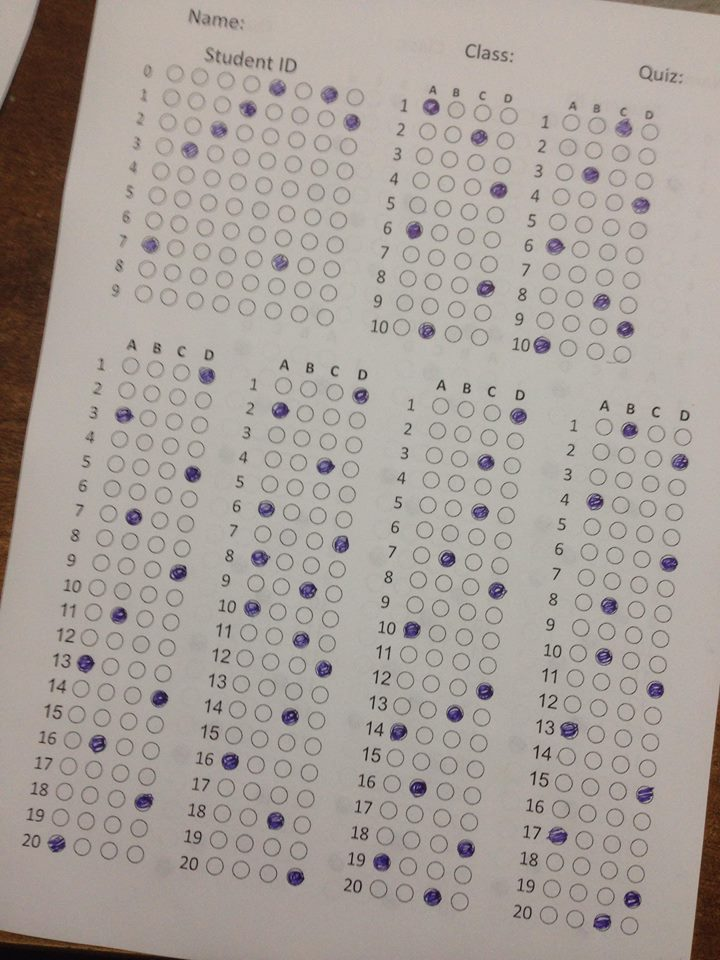not-c: (618, 913, 641, 938), (448, 889, 470, 914), (564, 906, 586, 931), (567, 881, 590, 904), (471, 706, 495, 728), (585, 722, 607, 746), (394, 882, 416, 905), (601, 832, 623, 855), (576, 802, 599, 824), (441, 728, 463, 750), (411, 750, 433, 772), (541, 878, 563, 900), (599, 859, 621, 881), (550, 798, 572, 820), (583, 750, 605, 772), (642, 705, 664, 727), (570, 616, 592, 638), (628, 574, 650, 596), (264, 100, 285, 123), (404, 803, 425, 826), (596, 884, 617, 907), (631, 811, 654, 832), (580, 775, 601, 798), (639, 732, 662, 753), (613, 727, 634, 750), (568, 641, 589, 664), (601, 570, 624, 591), (220, 220, 242, 241), (483, 606, 505, 627), (424, 646, 445, 668), (477, 655, 499, 676), (462, 785, 483, 807), (398, 855, 419, 877), (453, 863, 474, 885), (539, 904, 560, 926), (574, 829, 595, 851), (605, 807, 627, 828), (610, 753, 631, 775), (566, 667, 587, 689), (621, 650, 642, 672), (648, 654, 669, 676), (626, 599, 647, 621), (491, 530, 514, 550), (386, 746, 406, 769), (382, 772, 402, 795), (608, 779, 628, 802), (638, 756, 658, 779), (272, 758, 293, 779), (421, 673, 442, 694), (418, 699, 439, 720), (468, 732, 489, 753), (553, 772, 574, 793), (624, 625, 645, 646), (652, 604, 673, 625), (547, 212, 568, 233), (624, 245, 645, 266), (235, 121, 255, 143), (335, 160, 355, 182), (76, 810, 96, 832), (417, 121, 439, 141), (257, 677, 277, 699), (250, 728, 270, 750), (299, 762, 319, 784), (235, 832, 255, 854), (430, 395, 450, 417), (454, 626, 474, 648), (451, 652, 473, 672), (435, 780, 455, 802), (429, 833, 449, 855), (572, 855, 592, 877), (673, 426, 693, 448), (316, 109, 337, 129), (325, 234, 345, 255), (133, 284, 154, 304), (59, 757, 79, 778), (105, 789, 126, 809), (72, 835, 92, 856), (308, 505, 328, 526), (335, 508, 355, 529), (317, 634, 338, 654), (208, 828, 228, 849), (427, 623, 448, 643), (481, 630, 502, 650), (448, 677, 469, 697), (432, 807, 452, 828), (426, 860, 446, 881), (368, 878, 388, 899), (626, 863, 646, 884), (616, 701, 636, 722), (651, 628, 671, 649), (576, 567, 596, 588), (635, 524, 655, 545), (594, 416, 614, 437), (646, 423, 666, 444), (605, 192, 625, 213), (542, 261, 562, 282), (567, 264, 588, 284), (538, 286, 559, 306), (612, 343, 632, 364), (188, 90, 207, 112), (328, 211, 350, 230), (247, 224, 266, 246), (123, 685, 142, 707), (493, 154, 512, 176), (434, 197, 453, 219), (312, 480, 331, 502), (557, 746, 576, 768), (597, 620, 616, 642), (656, 579, 678, 598), (276, 204, 296, 224), (195, 218, 215, 238), (160, 437, 180, 457), (153, 487, 173, 507), (94, 528, 114, 548), (80, 785, 100, 805), (483, 230, 503, 250), (454, 251, 474, 271), (470, 328, 490, 348), (285, 477, 305, 497), (238, 807, 258, 827), (292, 815, 312, 835), (396, 670, 416, 690), (392, 696, 412, 716), (439, 755, 459, 775), (589, 698, 609, 718), (592, 672, 612, 692), (574, 592, 594, 612), (611, 495, 631, 515), (591, 441, 611, 461), (558, 138, 578, 158), (637, 146, 657, 166), (634, 171, 654, 191), (571, 239, 591, 259), (595, 267, 615, 287), (586, 341, 606, 361), (261, 127, 282, 146), (176, 165, 195, 186), (227, 172, 248, 191), (197, 193, 218, 212), (144, 210, 165, 229), (165, 238, 186, 257), (319, 283, 338, 304), (167, 387, 186, 408), (173, 538, 192, 559), (113, 580, 132, 601), (140, 742, 161, 761), (496, 131, 517, 150), (299, 379, 320, 398), (347, 409, 368, 428), (292, 428, 311, 449), (338, 483, 357, 504), (301, 556, 322, 575), (324, 584, 343, 605), (268, 601, 287, 622), (240, 622, 259, 643), (269, 785, 288, 806), (424, 445, 445, 464), (400, 643, 419, 664), (466, 758, 485, 779), (460, 811, 479, 832), (376, 825, 395, 846), (402, 829, 421, 850), (546, 851, 565, 872), (563, 693, 582, 714), (665, 502, 684, 523), (629, 220, 648, 241), (217, 70, 235, 92), (117, 380, 135, 402), (54, 781, 72, 803), (295, 80, 314, 100), (345, 88, 365, 107), (290, 105, 309, 125), (158, 111, 178, 130), (183, 115, 202, 135), (151, 161, 170, 181), (306, 183, 325, 203), (332, 187, 352, 206), (147, 186, 167, 205), (217, 246, 237, 265), (322, 259, 342, 278), (136, 259, 156, 278), (162, 262, 182, 281), (267, 277, 287, 296), (237, 298, 256, 318), (316, 307, 336, 326), (121, 355, 140, 375), (191, 415, 210, 435), (143, 560, 162, 580), (165, 589, 184, 609), (161, 613, 181, 632), (80, 627, 99, 647), (158, 639, 177, 659), (62, 730, 82, 749), (115, 738, 135, 757), (84, 759, 103, 779), (111, 763, 130, 783), (139, 585, 159, 604), (500, 105, 519, 125), (461, 202, 481, 221), (402, 244, 421, 264), (450, 276, 470, 295), (447, 299, 466, 319), (391, 319, 411, 338), (444, 324, 463, 344), (325, 382, 344, 402), (280, 527, 299, 547), (310, 686, 330, 705), (229, 700, 248, 720), (277, 733, 296, 753), (215, 779, 235, 798), (257, 864, 277, 883), (453, 425, 473, 444), (447, 473, 467, 492), (415, 520, 434, 540), (379, 801, 398, 821), (619, 676, 638, 696), (580, 541, 599, 561), (644, 448, 663, 468), (611, 143, 630, 163), (608, 168, 627, 188), (574, 215, 594, 234), (536, 310, 555, 330), (589, 317, 608, 337), (190, 65, 208, 86), (168, 214, 189, 232), (170, 363, 191, 381), (184, 440, 205, 458), (180, 489, 198, 510), (153, 664, 174, 682), (97, 682, 115, 703), (118, 712, 139, 730), (101, 839, 119, 860), (127, 843, 145, 864), (428, 247, 446, 268), (472, 303, 493, 321), (319, 432, 340, 450), (344, 437, 365, 455), (304, 532, 325, 550), (271, 577, 292, 595), (263, 836, 281, 857), (290, 840, 308, 861), (505, 431, 526, 449), (433, 575, 454, 593), (165, 64, 184, 83), (313, 134, 332, 153), (283, 154, 302, 173), (252, 200, 271, 219), (293, 280, 312, 299), (160, 288, 179, 307), (290, 304, 309, 323), (195, 390, 214, 409), (135, 433, 154, 452), (175, 515, 194, 534), (146, 535, 165, 554), (117, 556, 136, 575), (132, 635, 151, 654), (101, 657, 120, 676), (93, 709, 112, 728), (52, 807, 71, 826), (412, 172, 431, 191), (409, 197, 428, 216), (421, 296, 440, 315), (283, 503, 302, 522), (295, 789, 314, 808), (212, 804, 231, 823), (231, 860, 250, 879), (457, 400, 476, 419), (427, 421, 446, 440), (422, 471, 441, 490), (501, 482, 520, 501), (415, 726, 434, 745), (629, 839, 648, 858), (606, 545, 625, 564), (609, 521, 628, 540), (614, 471, 633, 490), (641, 475, 660, 494), (617, 446, 636, 465), (584, 141, 603, 160), (598, 243, 617, 262), (622, 271, 641, 290), (212, 95, 232, 113), (287, 130, 307, 148), (155, 137, 175, 155), (257, 152, 277, 170), (202, 170, 222, 188), (255, 175, 275, 193), (301, 233, 321, 251), (244, 251, 264, 269), (240, 274, 260, 292), (186, 291, 204, 311), (211, 294, 229, 314), (109, 429, 129, 447), (134, 610, 154, 628), (105, 630, 123, 650), (71, 680, 89, 700), (139, 767, 157, 787), (467, 152, 485, 172), (464, 177, 482, 197), (267, 425, 287, 443), (290, 453, 308, 473), (254, 524, 272, 544), (275, 552, 295, 570), (285, 682, 303, 702), (255, 703, 273, 723), (305, 736, 323, 756), (204, 857, 224, 875), (472, 477, 492, 495), (468, 527, 486, 547), (463, 553, 483, 571), (491, 557, 511, 575), (661, 529, 681, 547), (639, 499, 657, 519), (601, 219, 621, 237), (339, 138, 360, 155), (310, 159, 331, 176), (100, 503, 117, 524), (261, 474, 278, 495), (281, 179, 299, 198), (225, 197, 244, 215), (191, 242, 210, 260), (189, 266, 208, 284), (145, 361, 164, 379), (140, 409, 158, 428), (165, 412, 184, 430), (103, 479, 121, 498), (93, 555, 111, 574), (128, 660, 146, 679), (68, 705, 86, 724), (146, 714, 164, 733), (103, 815, 122, 833), (416, 146, 434, 165), (480, 255, 499, 273), (296, 404, 315, 422), (235, 648, 254, 666), (232, 675, 250, 694), (503, 456, 521, 475), (496, 505, 515, 523), (441, 523, 459, 542), (412, 547, 431, 565), (462, 578, 480, 597), (633, 550, 652, 568), (583, 517, 601, 536), (667, 479, 686, 497), (588, 116, 606, 135), (640, 123, 659, 141), (578, 191, 597, 209), (565, 289, 583, 308), (619, 296, 638, 314), (562, 314, 580, 333), (558, 339, 576, 358), (173, 191, 193, 208), (151, 511, 168, 531), (439, 151, 459, 168), (432, 223, 449, 243), (330, 559, 347, 579), (243, 782, 260, 802), (479, 429, 499, 446), (451, 449, 468, 469), (206, 145, 224, 163), (215, 270, 233, 288), (159, 461, 177, 479), (444, 126, 462, 144), (396, 293, 414, 311), (266, 627, 284, 645), (307, 712, 325, 730), (225, 727, 243, 745), (248, 757, 266, 775), (483, 404, 501, 422), (445, 499, 463, 517), (406, 596, 424, 614), (458, 603, 476, 621), (589, 468, 607, 486), (562, 114, 580, 132), (555, 163, 573, 181), (552, 188, 570, 206), (233, 148, 252, 165), (265, 301, 282, 320), (107, 454, 124, 473), (132, 459, 149, 478), (128, 484, 147, 501), (87, 580, 106, 597), (85, 603, 102, 622), (130, 820, 149, 837), (474, 104, 491, 123), (438, 174, 455, 193), (399, 270, 418, 287), (274, 378, 293, 395), (265, 449, 282, 468), (341, 461, 360, 478), (322, 611, 341, 628), (432, 600, 451, 617), (162, 89, 182, 105), (303, 209, 323, 225), (244, 74, 261, 92), (275, 229, 292, 247), (122, 532, 139, 550), (458, 227, 475, 245), (425, 274, 443, 291), (323, 408, 340, 426), (262, 653, 279, 671), (289, 656, 306, 674), (420, 496, 437, 514), (487, 206, 504, 223), (296, 607, 313, 624), (298, 257, 316, 273), (144, 385, 160, 403), (448, 101, 464, 119), (409, 572, 427, 588), (248, 575, 265, 591)
taken-c: (135, 234, 160, 257), (195, 364, 218, 386), (634, 782, 656, 804), (268, 254, 291, 275), (148, 687, 169, 710), (329, 531, 350, 554), (486, 580, 509, 601), (419, 96, 440, 118), (45, 832, 66, 854), (219, 750, 240, 772), (455, 836, 476, 858), (421, 885, 443, 906), (546, 825, 568, 846), (658, 552, 679, 574), (488, 181, 509, 202), (250, 548, 271, 569), (371, 851, 392, 872), (613, 117, 635, 137), (629, 197, 651, 217), (591, 291, 611, 313), (124, 506, 144, 528), (265, 810, 285, 832), (242, 596, 262, 618), (387, 722, 409, 742), (599, 594, 619, 616), (341, 111, 361, 132), (179, 140, 199, 161), (581, 165, 601, 186), (475, 277, 495, 298), (545, 236, 565, 257), (114, 405, 135, 425), (75, 652, 95, 673), (285, 867, 306, 887), (279, 706, 300, 726), (297, 580, 317, 601), (315, 455, 336, 475), (509, 405, 529, 426), (445, 703, 466, 723), (591, 911, 611, 932), (585, 491, 605, 512), (182, 464, 204, 483), (132, 792, 154, 811), (408, 777, 427, 799), (670, 451, 689, 473), (319, 85, 339, 105), (417, 320, 437, 340), (109, 605, 129, 625), (88, 733, 108, 753), (271, 399, 291, 419), (475, 681, 495, 701), (622, 889, 642, 909), (559, 720, 579, 740), (256, 497, 275, 518), (615, 318, 634, 338), (168, 562, 188, 581), (437, 548, 456, 568), (402, 620, 422, 639), (645, 680, 665, 699), (469, 127, 488, 146), (532, 334, 551, 353), (312, 658, 331, 677), (476, 452, 495, 471), (404, 221, 424, 239), (469, 503, 489, 521), (239, 98, 257, 117), (350, 386, 369, 404), (594, 647, 613, 665), (620, 421, 639, 439), (291, 629, 309, 647), (268, 77, 285, 96), (209, 119, 226, 138)
